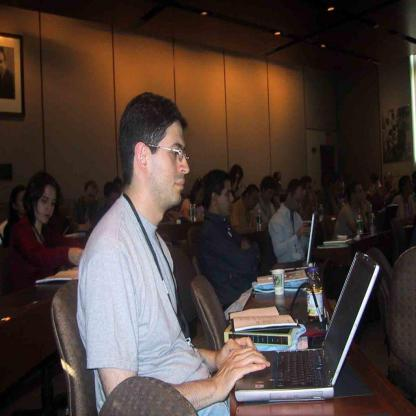board: (234, 249, 380, 401), (268, 212, 316, 270), (307, 264, 326, 328), (272, 265, 285, 298), (370, 210, 376, 238), (358, 214, 364, 240), (256, 209, 262, 235), (193, 203, 197, 221), (190, 204, 192, 222)
